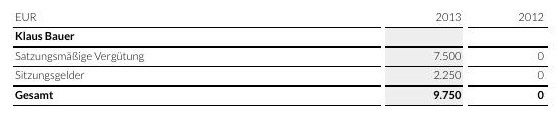table: (0, 0, 558, 117)
